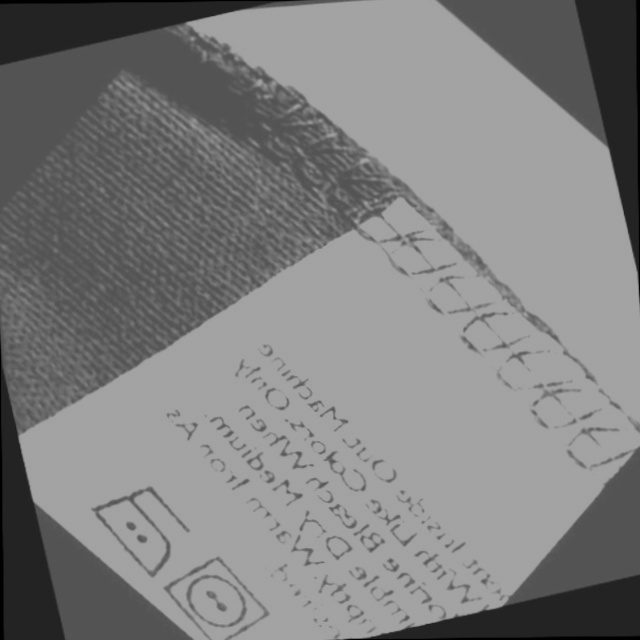iron_medium: (65, 463, 209, 598)
tumble_dry_medium: (142, 534, 287, 640)
